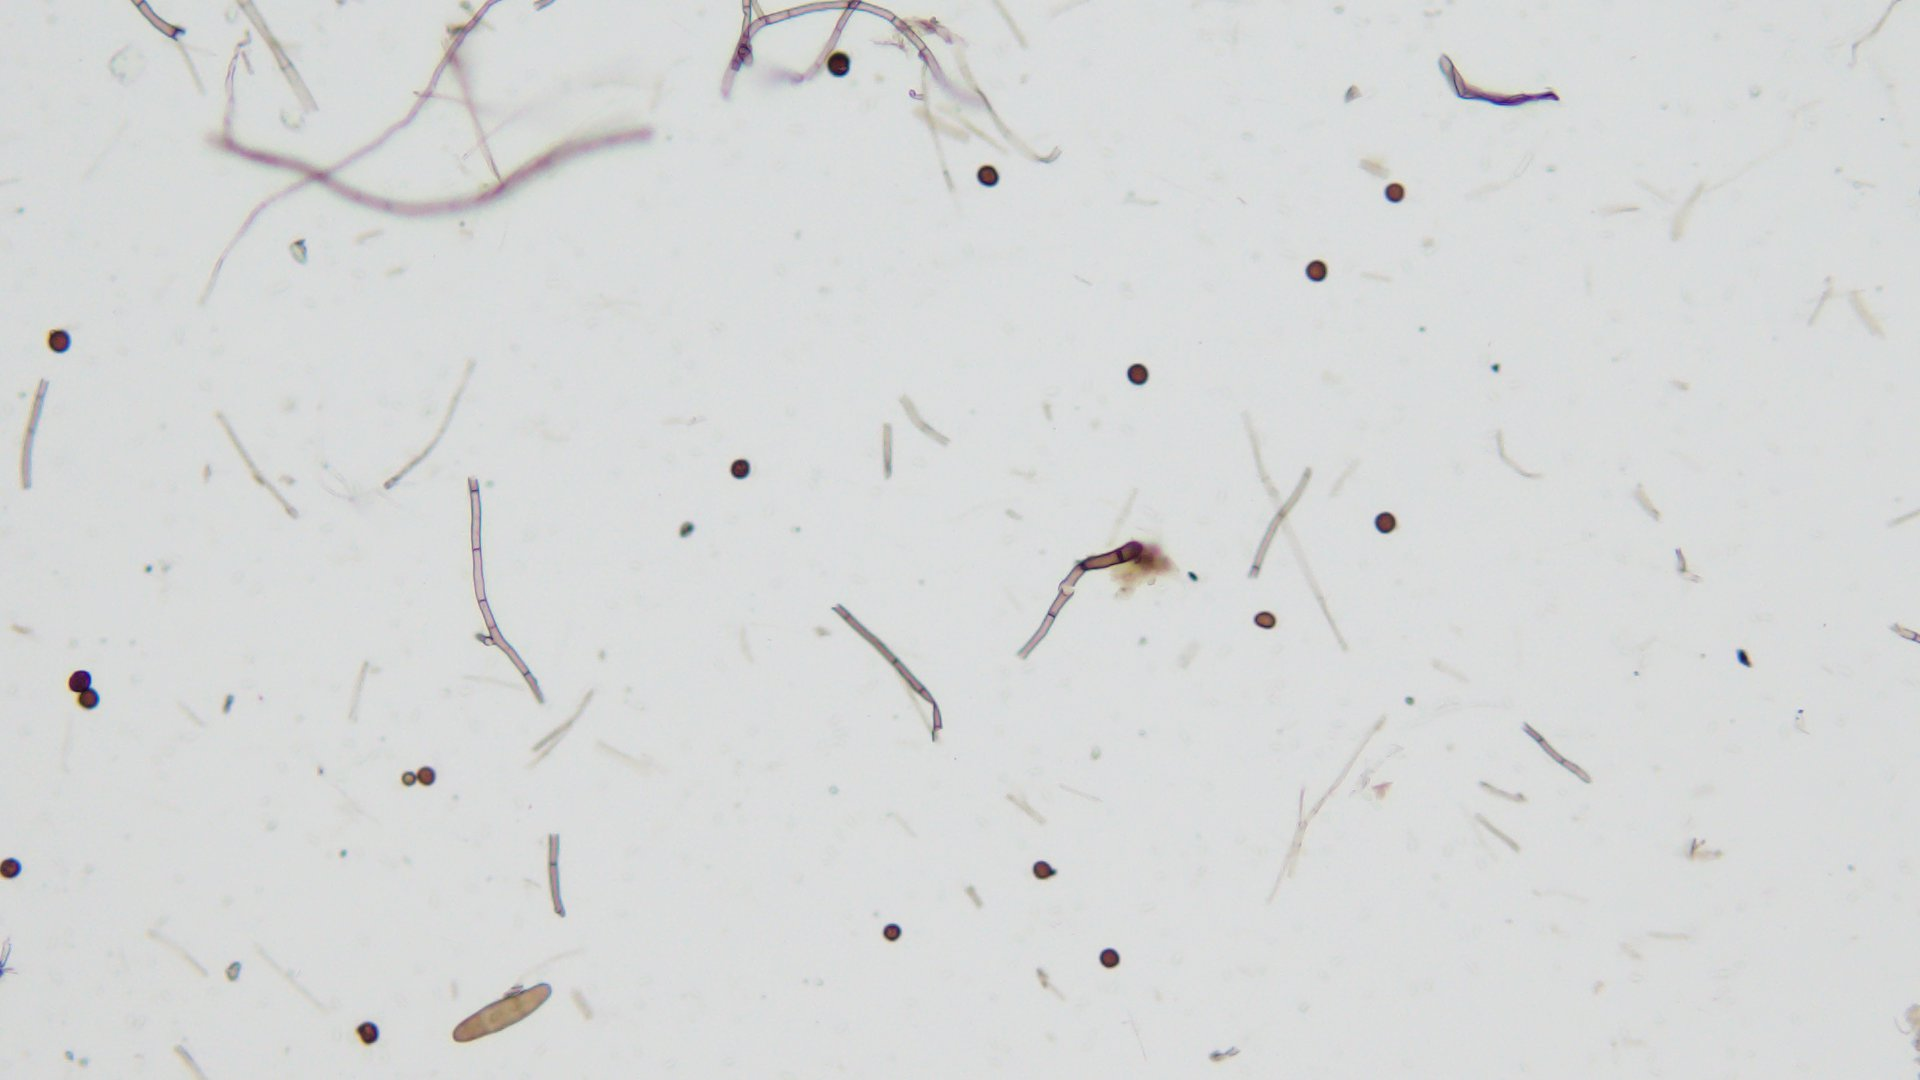dbb_spore: (450, 982, 553, 1044)
shs_spore: (1122, 363, 1150, 386), (47, 328, 71, 353), (1381, 179, 1406, 203), (1373, 512, 1396, 537), (69, 670, 94, 692), (729, 458, 752, 483), (357, 1021, 381, 1043), (1305, 260, 1329, 282), (825, 57, 851, 78), (975, 167, 1000, 189), (76, 688, 100, 709), (1, 856, 22, 880), (1033, 858, 1054, 880), (1255, 612, 1279, 630), (1097, 949, 1120, 968), (415, 769, 436, 787), (882, 922, 901, 942)
